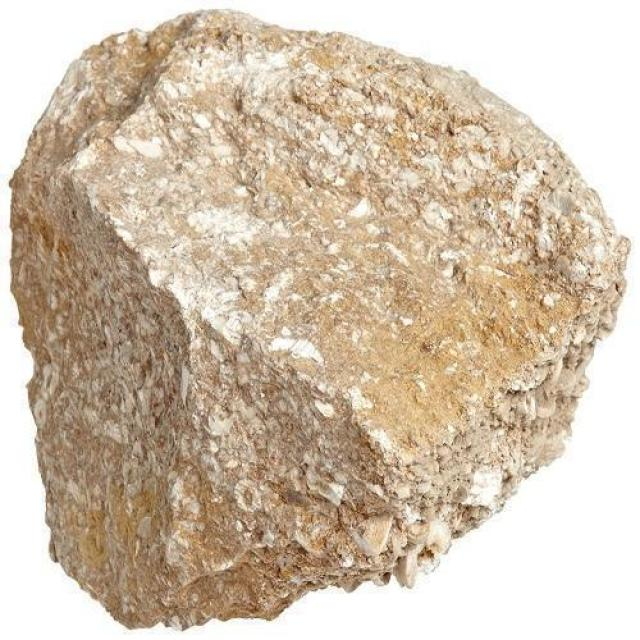Sedimentary: (5, 10, 632, 627)
